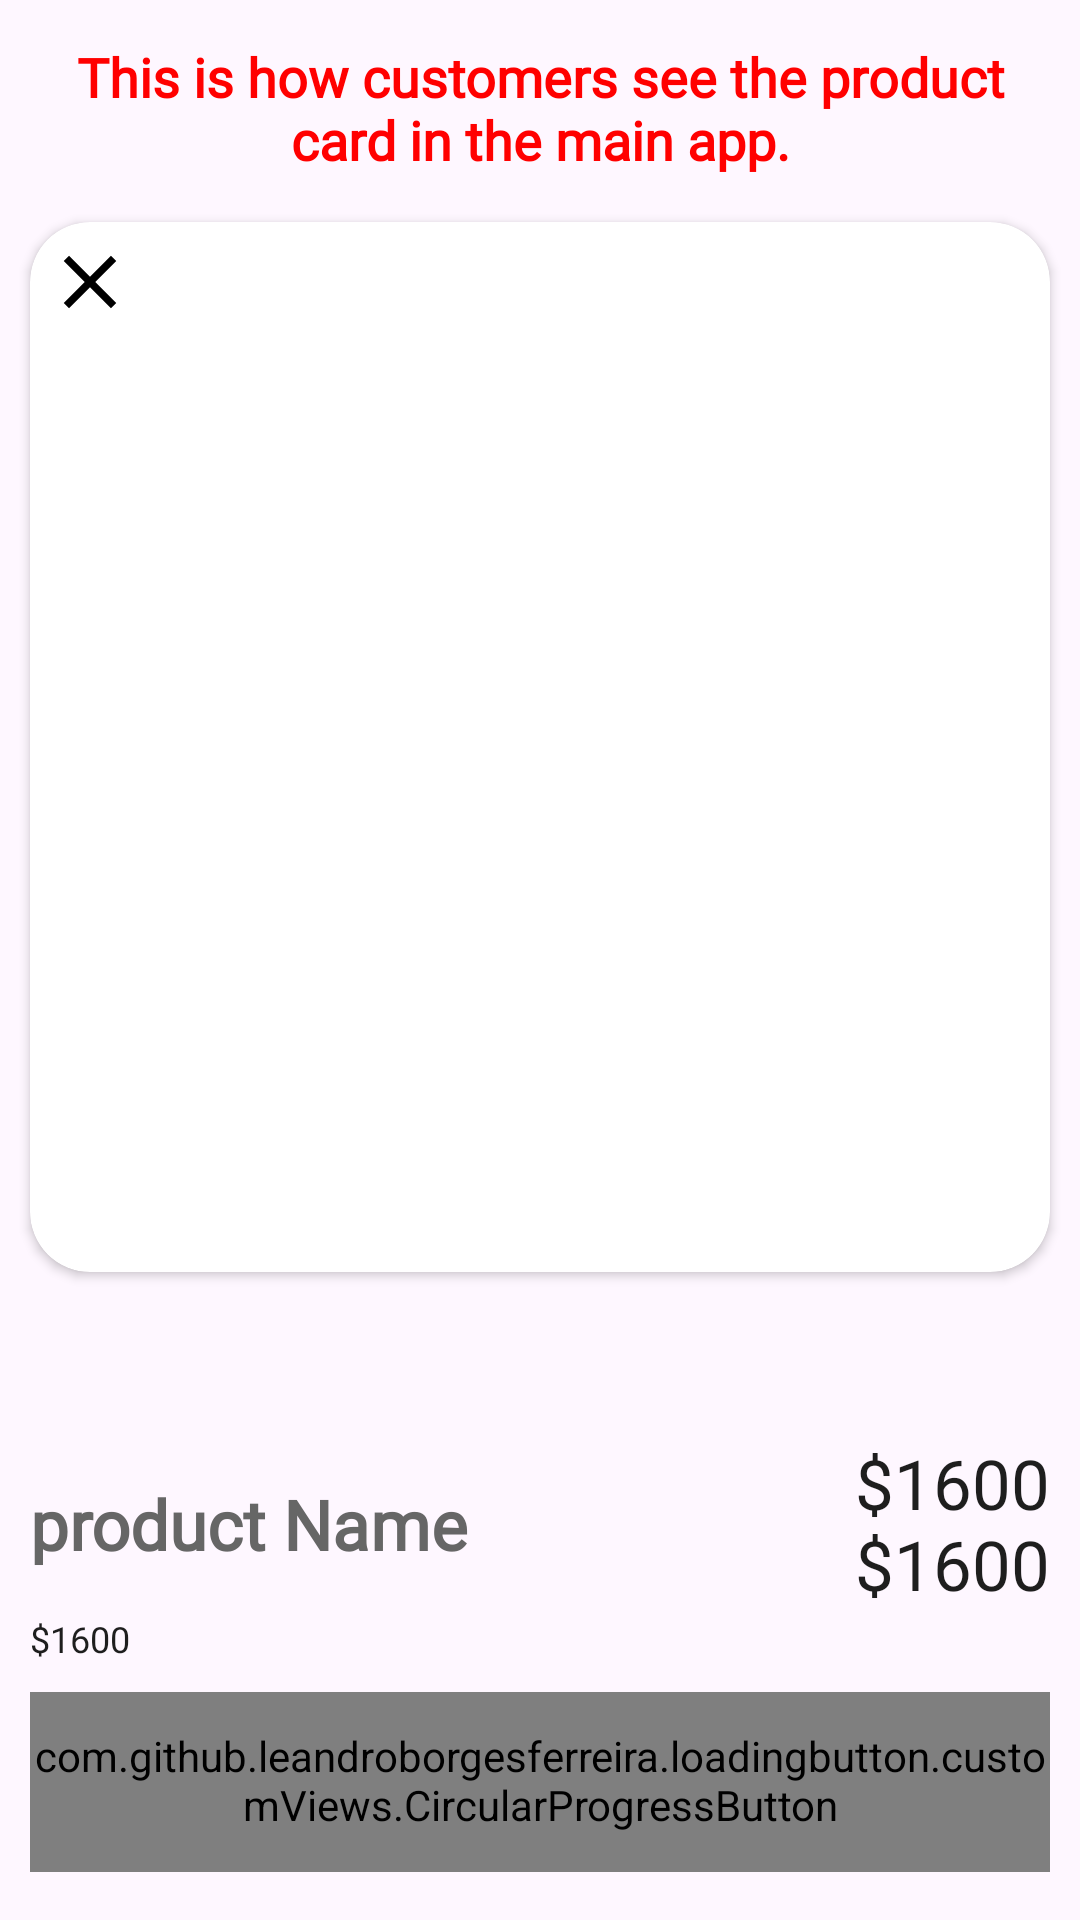

Icon bounding boxes for this 1080 × 1920 phone screenshot, format box=[x1, y1, x2, y2]:
close: box=[64, 222, 116, 308]
